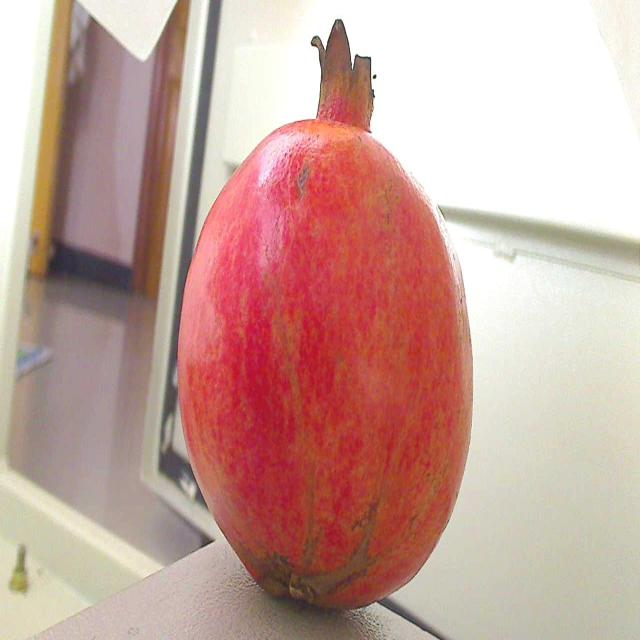pomegranate: (166, 16, 483, 618)
